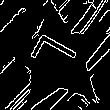L_SE: (28, 32, 86, 85)
